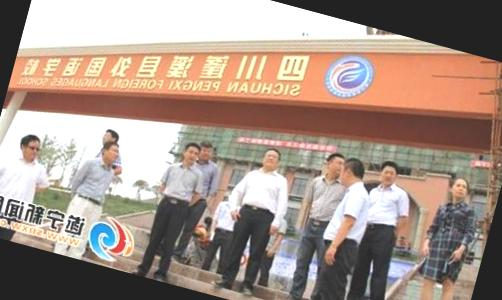no_helmet: (442, 169, 477, 206), (339, 153, 372, 192), (15, 129, 49, 164), (256, 143, 286, 180), (319, 146, 349, 180), (374, 157, 403, 189), (96, 137, 124, 168), (180, 139, 205, 169), (97, 125, 122, 150), (197, 140, 216, 164)
